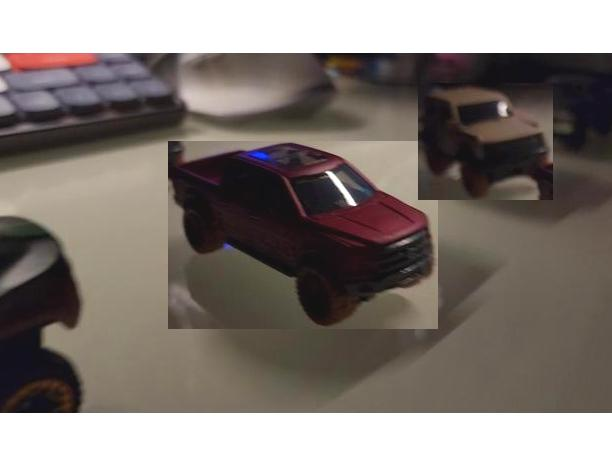toy-car: (169, 142, 439, 330), (0, 212, 85, 412), (419, 83, 554, 200)
